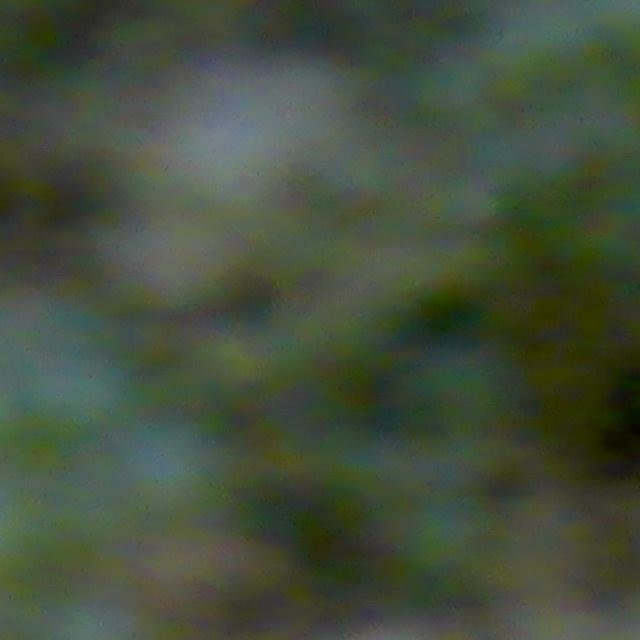SeaGrape: (34, 333, 139, 452), (110, 447, 220, 528)
